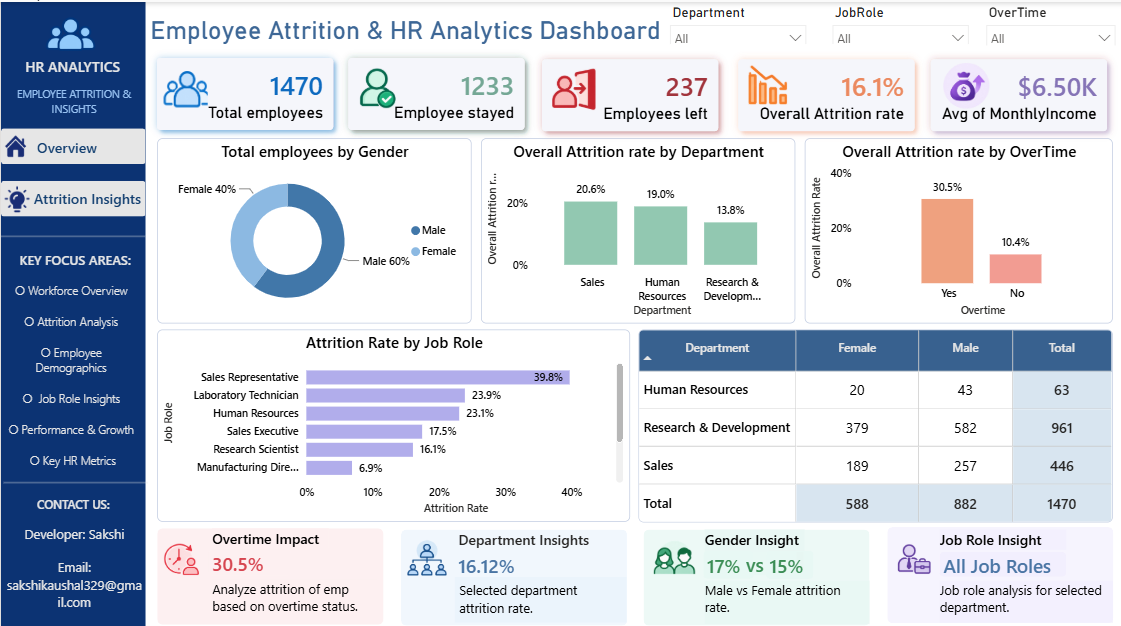

Layout of this report page (visuals, bound fields, positions):
{"tool":"powerbi","page":{"name":"Overview","canvas":[1280,720],"ordinal":0},"visuals":[{"type":"shape","box":[0,0,165,720.4],"z":0},{"type":"shape","box":[732.8,601,258,109.8],"z":1000},{"type":"shape","box":[455.6,601,258,109.8],"z":2000},{"type":"shape","box":[178.4,599.7,258,110],"z":3000},{"type":"columnChart","fields":{"Category":["hr hr_analytics.Department"],"Y":["hr hr_analytics.Overall Attrition rate"]},"box":[547.5,154.7,358.1,211.3],"z":4000},{"type":"clusteredBarChart","title":"Attrition Rate by Job Role","fields":{"Category":["hr hr_analytics.JobRole"],"Y":["hr hr_analytics.Attrition Rate"]},"box":[178.4,373.2,539.3,219.6],"z":5000},{"type":"donutChart","fields":{"Category":["hr hr_analytics.Gender"],"Y":["hr hr_analytics.Total employess"]},"box":[178.4,154.7,358.1,211.3],"z":6000},{"type":"slicer","fields":{"Values":["hr hr_analytics.OverTime"]},"box":[1112.6,0,167.4,49.4],"z":7000},{"type":"slicer","fields":{"Values":["hr hr_analytics.JobRole"]},"box":[937.2,0,175.6,48],"z":8000},{"type":"clusteredColumnChart","fields":{"Category":["hr hr_analytics.OverTime"],"Y":["hr hr_analytics.Overall Attrition rate"]},"box":[916.6,154.7,351.3,211.3],"z":9000},{"type":"pivotTable","fields":{"Columns":["hr hr_analytics.Gender"],"Rows":["hr hr_analytics.Department"],"Values":["hr hr_analytics.Total employess"]},"box":[727.3,373.2,540.7,220],"z":10000},{"type":"textbox","box":[164.7,0,610.6,68.6],"z":11000},{"type":"cardVisual","fields":{"Data":["hr hr_analytics.Employee stayed"]},"box":[379.6,46.7,235,116],"z":12000},{"type":"cardVisual","fields":{"Data":["hr hr_analytics.Employees left"]},"box":[600.5,48,235,116],"z":13000},{"type":"cardVisual","fields":{"Data":["hr hr_analytics.Overall Attrition rate"]},"box":[824.2,48,235,116],"z":14000},{"type":"cardVisual","fields":{"Data":["Avg(hr hr_analytics.MonthlyIncome)"]},"box":[1043.8,48,235,116],"z":15000},{"type":"cardVisual","fields":{"Data":["hr hr_analytics.Overtime attrition rate"]},"box":[236,624.4,94.7,30.2],"z":16000},{"type":"cardVisual","fields":{"Data":["hr hr_analytics.Total employess"]},"box":[160.5,46.7,235,116],"z":17000},{"type":"shape","box":[1010,598.3,258,109.8],"z":18000},{"type":"textbox","box":[241.5,599.7,133.1,23.3],"z":19000},{"type":"cardVisual","fields":{"Data":["hr hr_analytics.Department Insight Rate"]},"box":[517.3,627.1,79.6,28.8],"z":20000},{"type":"textbox","box":[521.4,601,159.2,32.9],"z":21000},{"type":"textbox","box":[517.3,655.9,196.2,52.1],"z":22000},{"type":"textbox","box":[802.7,601,113.9,26.1],"z":23000},{"type":"cardVisual","fields":{"Data":["hr hr_analytics.Male Attrition"]},"box":[801.6,625.7,57.6,32.9],"z":24000},{"type":"textbox","box":[802.7,660,188,49.4],"z":25000},{"type":"textbox","box":[849.7,627.1,65.9,26.1],"z":26000},{"type":"cardVisual","fields":{"Data":["hr hr_analytics.Female Attrition"]},"box":[873,625.7,54.9,32.9],"z":27000},{"type":"cardVisual","fields":{"Data":["hr hr_analytics.Job Role Insight"]},"box":[1070.3,627.1,144.1,28.8],"z":28000},{"type":"textbox","box":[1070.3,601,144.1,23.3],"z":29000},{"type":"textbox","box":[1070.3,660,197.6,48],"z":30000},{"type":"image","box":[182.5,606.5,43.9,75.5],"z":31000},{"type":"image","box":[463.8,595.5,48,65.9],"z":32000},{"type":"image","box":[738.3,603.8,56.3,68.6],"z":33000},{"type":"image","box":[1010,607.9,53.5,63.1],"z":34000},{"type":"image","box":[185.2,75.5,50.8,48],"z":35000},{"type":"image","box":[628.5,71.4,49.4,56.3],"z":36000},{"type":"image","box":[852.1,67.2,43.9,54.9],"z":37000},{"type":"image","box":[397.9,72.7,63.1,50.8],"z":38000},{"type":"textbox","box":[1.4,57.6,160.5,38.4],"z":39000},{"type":"image","box":[46.7,4.1,64.5,64.5],"z":40000},{"type":"textbox","box":[4.1,89.2,157.8,52.1],"z":41000},{"type":"textbox","box":[8.2,279.9,152.3,37],"z":42000},{"type":"textbox","box":[2.7,315.6,157.8,242.9],"z":43000},{"type":"shape","box":[2.7,400.7,164.7,295],"z":44000},{"type":"textbox","box":[0,591.4,167.4,130.4],"z":45000},{"type":"textbox","box":[2.7,558.5,159.2,32.9],"z":46000},{"type":"shape","box":[0,144.1,164.7,41.2],"z":47000},{"type":"actionButton","box":[28.8,150.9,93.3,28.8],"z":48000},{"type":"shape","box":[0,204.5,164.7,41],"z":49000},{"type":"actionButton","box":[30.2,208.6,137.2,31.6],"z":50000},{"type":"image","box":[4.1,146.8,25,35],"z":51000},{"type":"image","box":[2.7,204.5,31,42],"z":52000},{"type":"shape","box":[0,119.4,164.7,295],"z":53000},{"type":"slicer","fields":{"Values":["hr hr_analytics.Department"]},"box":[752,0,175.6,48],"z":54000},{"type":"textbox","box":[241.5,658.7,188,49.4],"z":55000},{"type":"image","box":[1070.3,61.7,59,71.4],"z":56000}]}

Visuals, with their boxes in screenshot pixels (x1, y1, x2, y2), scaled from the page's 1280x720 canvas onto the 1121x626 screenshot:
shape: (left=0, top=0, right=145, bottom=625)
shape: (left=642, top=523, right=868, bottom=618)
shape: (left=399, top=523, right=625, bottom=618)
shape: (left=156, top=521, right=382, bottom=617)
columnChart - hr hr_analytics.Department x hr hr_analytics.Overall Attrition rate: (left=479, top=135, right=793, bottom=318)
"Attrition Rate by Job Role" clusteredBarChart: (left=156, top=324, right=629, bottom=515)
donutChart - hr hr_analytics.Gender x hr hr_analytics.Total employess: (left=156, top=135, right=470, bottom=318)
slicer - hr hr_analytics.OverTime: (left=974, top=0, right=1120, bottom=43)
slicer - hr hr_analytics.JobRole: (left=821, top=0, right=975, bottom=42)
clusteredColumnChart - hr hr_analytics.OverTime x hr hr_analytics.Overall Attrition rate: (left=803, top=135, right=1110, bottom=318)
pivotTable - hr hr_analytics.Gender x hr hr_analytics.Department: (left=637, top=324, right=1110, bottom=516)
textbox: (left=144, top=0, right=679, bottom=60)
cardVisual - hr hr_analytics.Employee stayed: (left=332, top=41, right=538, bottom=141)
cardVisual - hr hr_analytics.Employees left: (left=526, top=42, right=732, bottom=143)
cardVisual - hr hr_analytics.Overall Attrition rate: (left=722, top=42, right=928, bottom=143)
cardVisual - Avg(hr hr_analytics.MonthlyIncome): (left=914, top=42, right=1120, bottom=143)
cardVisual - hr hr_analytics.Overtime attrition rate: (left=207, top=543, right=290, bottom=569)
cardVisual - hr hr_analytics.Total employess: (left=141, top=41, right=346, bottom=141)
shape: (left=885, top=520, right=1110, bottom=616)
textbox: (left=212, top=521, right=328, bottom=542)
cardVisual - hr hr_analytics.Department Insight Rate: (left=453, top=545, right=523, bottom=570)
textbox: (left=457, top=523, right=596, bottom=551)
textbox: (left=453, top=570, right=625, bottom=616)
textbox: (left=703, top=523, right=803, bottom=545)
cardVisual - hr hr_analytics.Male Attrition: (left=702, top=544, right=752, bottom=573)
textbox: (left=703, top=574, right=868, bottom=617)
textbox: (left=744, top=545, right=802, bottom=568)
cardVisual - hr hr_analytics.Female Attrition: (left=765, top=544, right=813, bottom=573)
cardVisual - hr hr_analytics.Job Role Insight: (left=937, top=545, right=1064, bottom=570)
textbox: (left=937, top=523, right=1064, bottom=543)
textbox: (left=937, top=574, right=1110, bottom=616)
image: (left=160, top=527, right=198, bottom=593)
image: (left=406, top=518, right=448, bottom=575)
image: (left=647, top=525, right=696, bottom=585)
image: (left=885, top=529, right=931, bottom=583)
image: (left=162, top=66, right=207, bottom=107)
image: (left=550, top=62, right=594, bottom=111)
image: (left=746, top=58, right=785, bottom=106)
image: (left=348, top=63, right=404, bottom=107)
textbox: (left=1, top=50, right=142, bottom=83)
image: (left=41, top=4, right=97, bottom=60)
textbox: (left=4, top=78, right=142, bottom=123)
textbox: (left=7, top=243, right=141, bottom=276)
textbox: (left=2, top=274, right=141, bottom=486)
shape: (left=2, top=348, right=147, bottom=605)
textbox: (left=0, top=514, right=147, bottom=625)
textbox: (left=2, top=486, right=142, bottom=514)
shape: (left=0, top=125, right=144, bottom=161)
actionButton: (left=25, top=131, right=107, bottom=156)
shape: (left=0, top=178, right=144, bottom=213)
actionButton: (left=26, top=181, right=147, bottom=209)
image: (left=4, top=128, right=25, bottom=158)
image: (left=2, top=178, right=30, bottom=214)
shape: (left=0, top=104, right=144, bottom=360)
slicer - hr hr_analytics.Department: (left=659, top=0, right=812, bottom=42)
textbox: (left=212, top=573, right=376, bottom=616)
image: (left=937, top=54, right=989, bottom=116)
